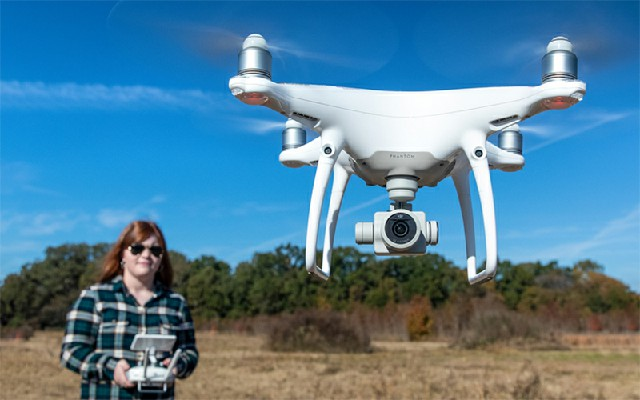maybay_khongnguoilai: (193, 21, 608, 304)
